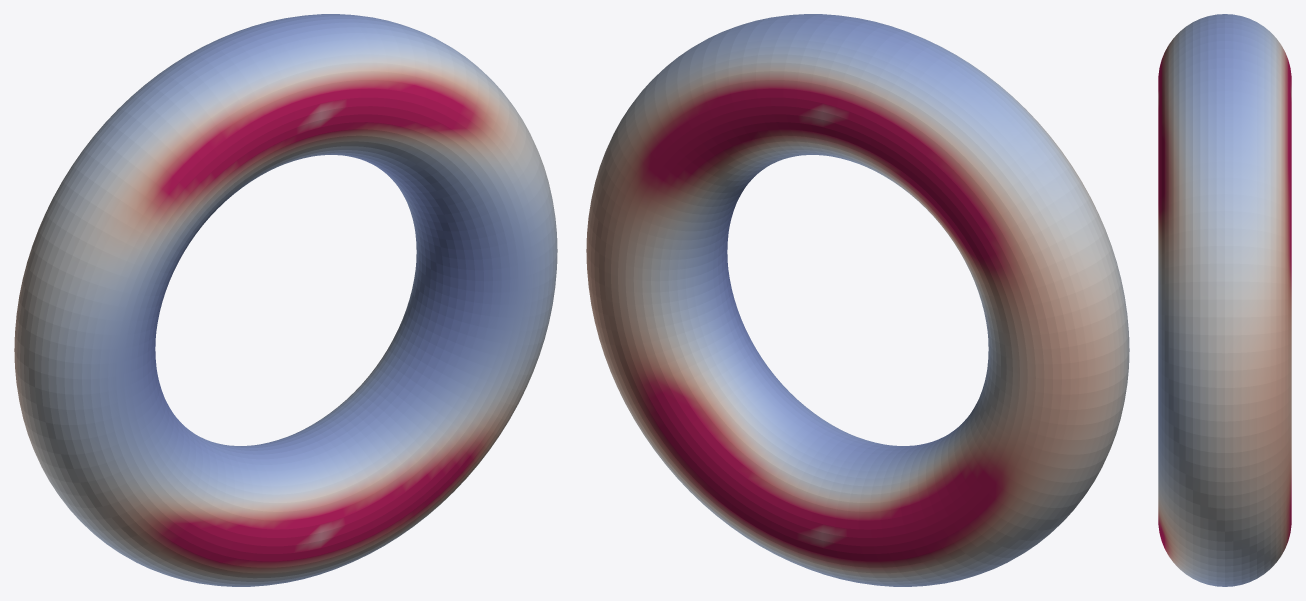
3 views of the same model, side by side, from view 1: azimuth 30°, elevation 25°; view 2: azimuth 150°, elevation 25°; view 3: azimuth 270°, elevation 25° (orthographic). The views are drawn at different scales.
Parts seen in each view (by area): view 1: world; view 2: world; view 3: world.
Boxes of the visible parts, left/top/right/bottom form: world: left=14, top=14, right=557, bottom=586; world: left=586, top=14, right=1129, bottom=586; world: left=1158, top=14, right=1291, bottom=586.
Bounding box in the file's own units: 23.47 × 23.47 × 5.46.
